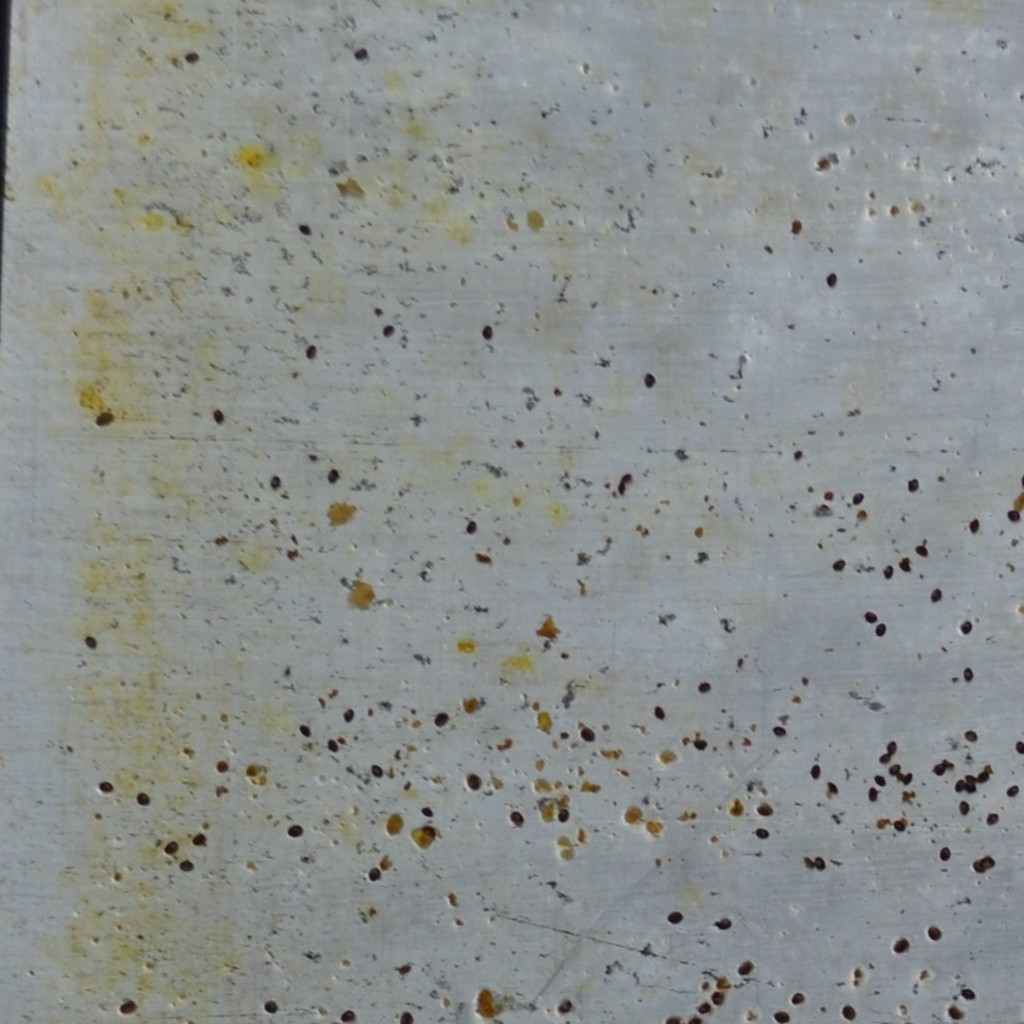varroa: (464, 767, 483, 797), (839, 1002, 859, 1023), (285, 820, 305, 841), (161, 838, 180, 857), (507, 809, 525, 829), (964, 516, 982, 535), (433, 709, 450, 729), (712, 917, 733, 933), (211, 406, 225, 430), (959, 983, 976, 1002), (770, 722, 787, 741), (579, 726, 598, 743), (134, 790, 151, 809), (946, 1004, 966, 1020), (97, 778, 114, 796), (1003, 509, 1022, 525), (898, 556, 914, 575), (958, 617, 973, 637), (325, 464, 340, 484), (653, 701, 668, 721), (666, 909, 683, 926), (338, 706, 355, 723), (873, 620, 889, 638), (1004, 782, 1020, 800), (983, 810, 1001, 826), (177, 858, 195, 874), (83, 633, 99, 651), (771, 1008, 790, 1023), (338, 1008, 357, 1023), (189, 831, 208, 846), (557, 806, 571, 826), (893, 936, 910, 952), (754, 825, 770, 842), (789, 989, 806, 1005), (557, 996, 573, 1013), (737, 960, 755, 975), (479, 322, 494, 340), (304, 342, 319, 360), (369, 761, 383, 780), (830, 557, 846, 573), (297, 220, 313, 236), (914, 543, 931, 558), (931, 760, 946, 777), (926, 925, 941, 942), (906, 476, 920, 494), (711, 989, 725, 1007), (118, 999, 136, 1013), (825, 269, 838, 288), (929, 586, 942, 605), (962, 665, 975, 684), (873, 771, 886, 790), (268, 471, 281, 490), (464, 518, 477, 537), (642, 372, 657, 388), (353, 46, 369, 61), (367, 867, 382, 883), (262, 1000, 278, 1015), (298, 723, 313, 739), (971, 857, 985, 874), (380, 322, 394, 339), (215, 758, 229, 775), (185, 48, 199, 65), (326, 737, 339, 755), (895, 774, 914, 786), (851, 491, 866, 506), (814, 855, 827, 872), (882, 563, 894, 581), (810, 763, 822, 781), (864, 608, 878, 623), (692, 737, 707, 751), (958, 800, 971, 816), (963, 729, 980, 741), (939, 846, 950, 864), (981, 856, 996, 869), (398, 1010, 413, 1023), (877, 752, 893, 764), (893, 819, 905, 835), (887, 763, 901, 776), (1013, 739, 1023, 757), (868, 787, 879, 803), (977, 771, 990, 784), (698, 1002, 711, 1015), (697, 681, 710, 694), (953, 779, 964, 794), (964, 780, 977, 792), (885, 740, 898, 752), (964, 772, 978, 783), (663, 1015, 678, 1022), (686, 1017, 702, 1022)
